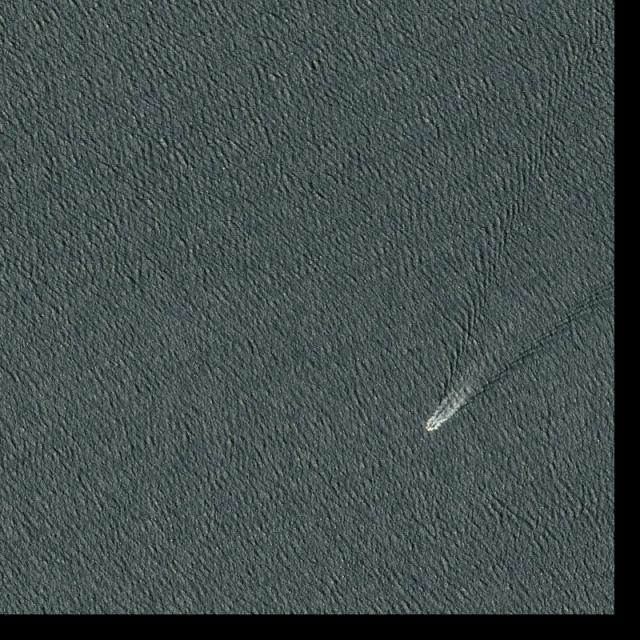ship: (427, 426, 433, 432)
